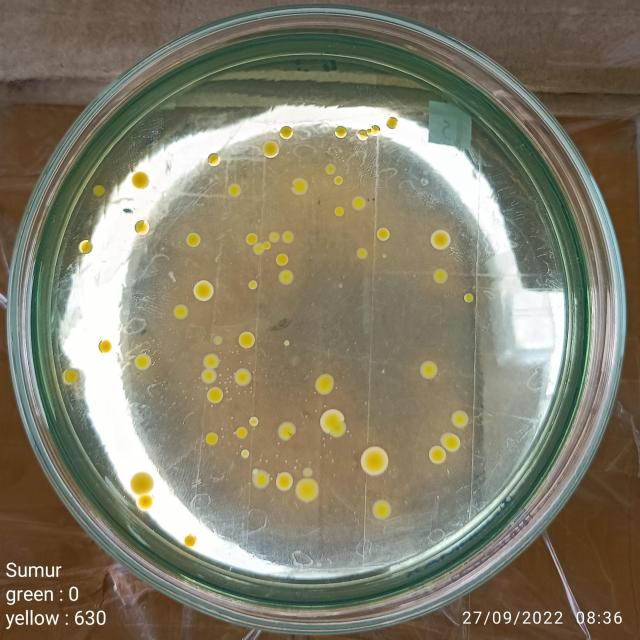yellow: (360, 445, 389, 476), (319, 409, 346, 437), (295, 478, 320, 502), (130, 472, 154, 495), (193, 280, 214, 301), (315, 373, 335, 395), (430, 230, 450, 250), (372, 500, 392, 520), (440, 432, 460, 452), (278, 421, 297, 441), (253, 468, 270, 489), (420, 360, 438, 379), (276, 472, 294, 491), (132, 171, 150, 189), (262, 140, 279, 159), (234, 369, 252, 386), (451, 411, 469, 428), (428, 446, 446, 463), (207, 387, 224, 404), (238, 332, 256, 348), (292, 178, 308, 195), (63, 368, 80, 384), (278, 269, 294, 285), (135, 354, 151, 370), (138, 494, 154, 510), (201, 368, 217, 384), (433, 268, 448, 284), (135, 220, 150, 235), (174, 304, 188, 320), (203, 354, 219, 368), (186, 233, 201, 247), (98, 339, 112, 354), (79, 240, 93, 254), (205, 432, 219, 446), (377, 227, 390, 242), (352, 197, 366, 210), (208, 153, 221, 167), (280, 126, 293, 140), (276, 253, 289, 266), (228, 184, 241, 197), (282, 230, 294, 244), (356, 247, 368, 260), (236, 426, 248, 439), (184, 534, 196, 547), (246, 233, 258, 245), (335, 126, 347, 138), (386, 117, 398, 129), (253, 243, 264, 255), (357, 130, 368, 142), (325, 163, 336, 174), (94, 186, 105, 197), (334, 206, 344, 217), (269, 232, 279, 243), (249, 416, 259, 427), (464, 293, 474, 303), (248, 280, 258, 290), (370, 125, 380, 135), (334, 176, 343, 186), (214, 336, 223, 346), (241, 449, 250, 458), (263, 242, 271, 250), (284, 340, 290, 347), (367, 128, 372, 134)
